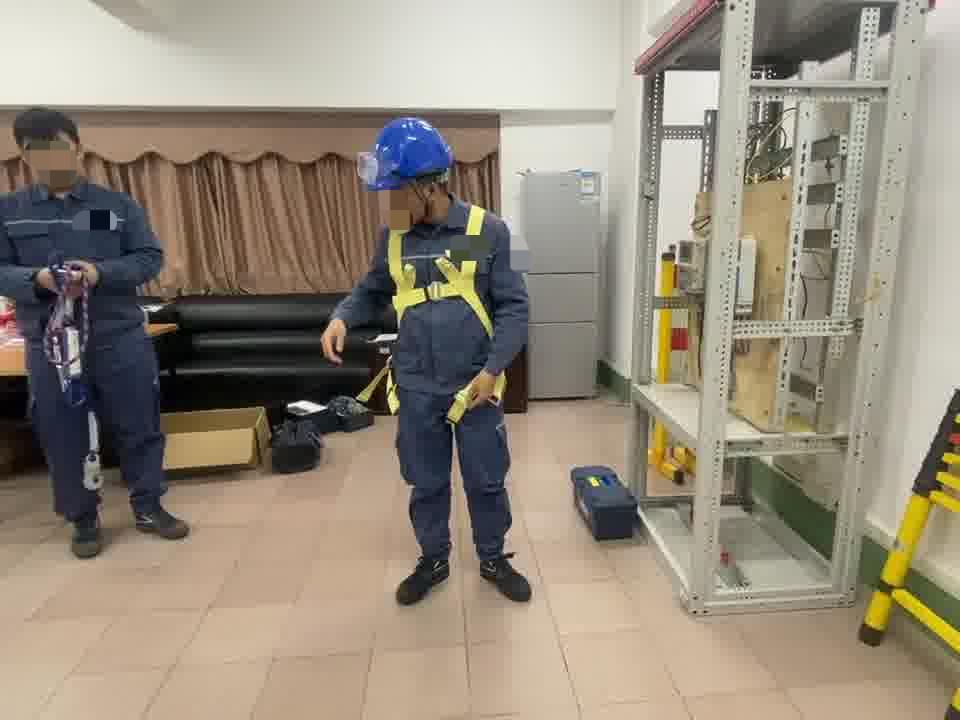halt: (366, 119, 460, 220)
inear: (404, 173, 444, 228)
unhalt: (15, 111, 90, 190)
